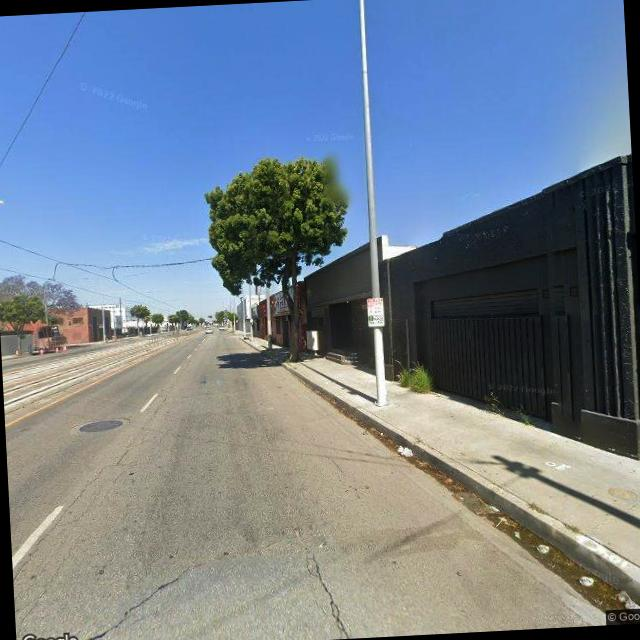pothole: (68, 561, 204, 640), (302, 550, 363, 639)
